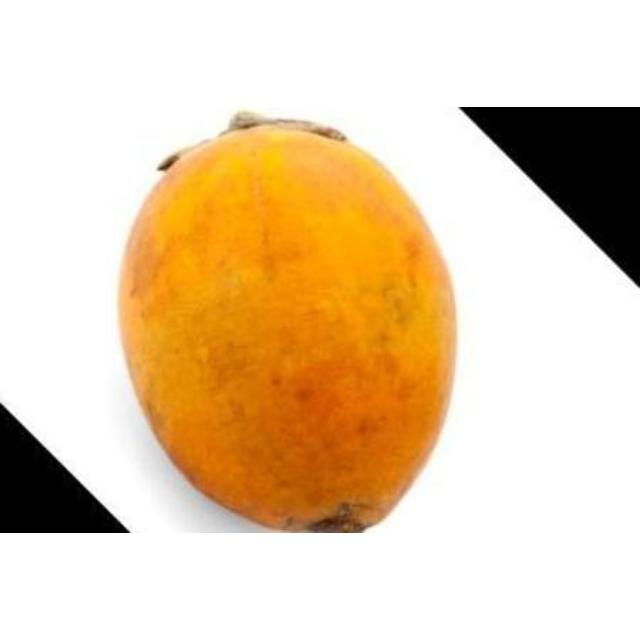good: (115, 124, 459, 532)
